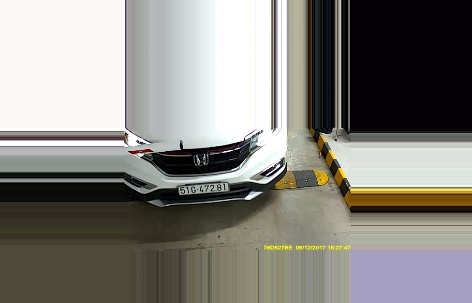plate: (178, 180, 234, 199)
